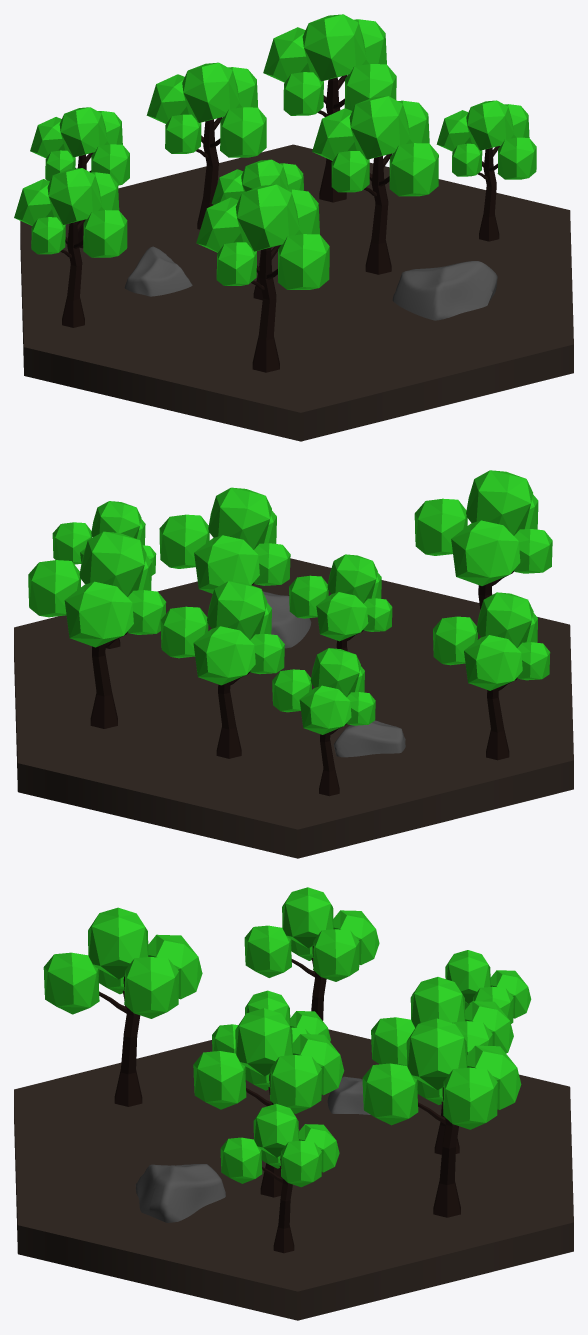
The model's file is Tile_7.FBX.
3 renders of one model, top to bottom at view 1: azimuth 30°, elevation 25°; view 2: azimuth 150°, elevation 25°; view 3: azimuth 270°, elevation 25°, orthographic.
Visible parts, largest first — view 1: Ground; view 2: Ground; view 3: Ground.
Boxes of the visible parts, box(x1,y1,x2,y2) form: Ground: box(14, 14, 573, 441); Ground: box(14, 470, 573, 858); Ground: box(14, 887, 573, 1320).
Size of the model in its own units: 39.37 by 15.66 by 34.33.
